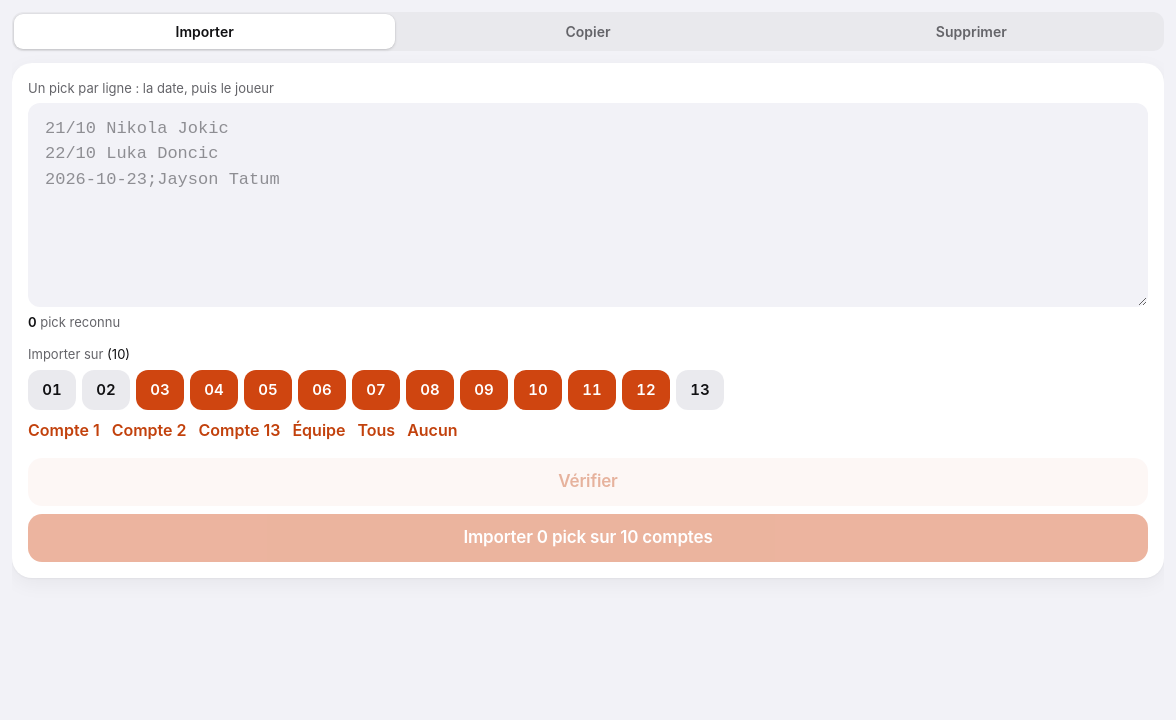
Test: Importer des picks › sans ligne valide ou sans compte, on ne peut pas vérifier
Expected: the button "Vérifier" is disabled, [28, 458, 1148, 506]
Click the text box named "Picks à importer" at point(588, 205), box [28, 102, 1148, 307]
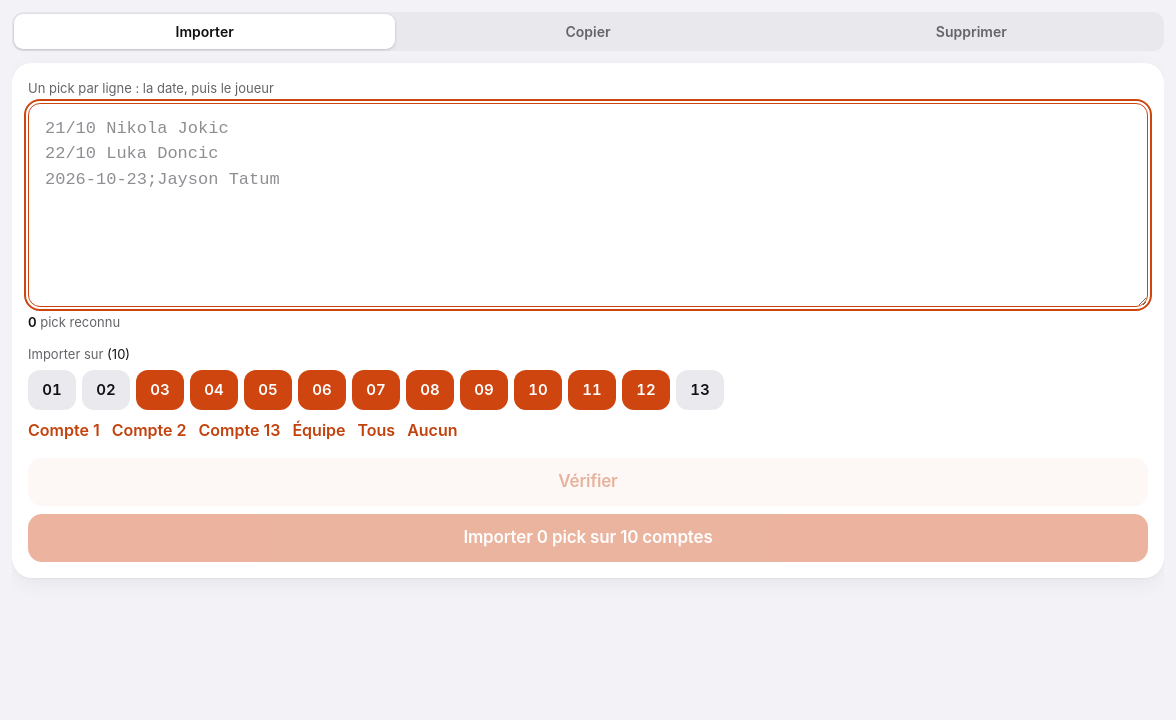
Type keys "21/10 Nikola Jokic"
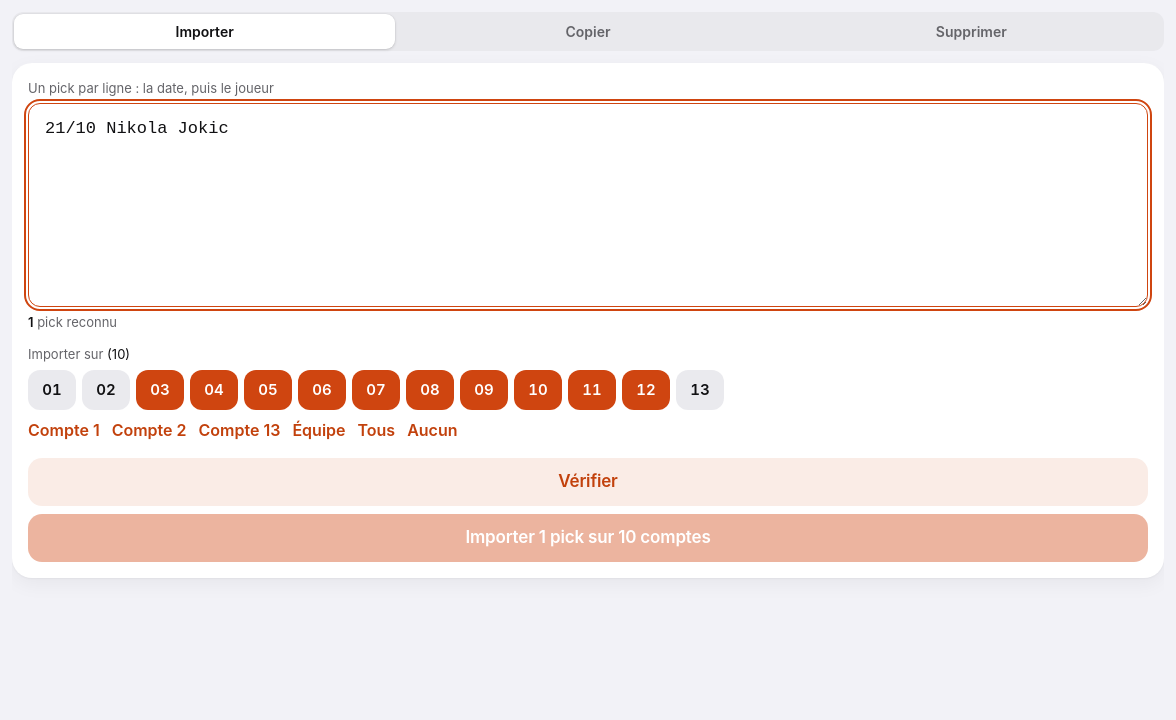
Now the button "Vérifier" is enabled, box [28, 458, 1148, 506]
Click the button "Aucun" at point(432, 430), box [407, 418, 458, 442]
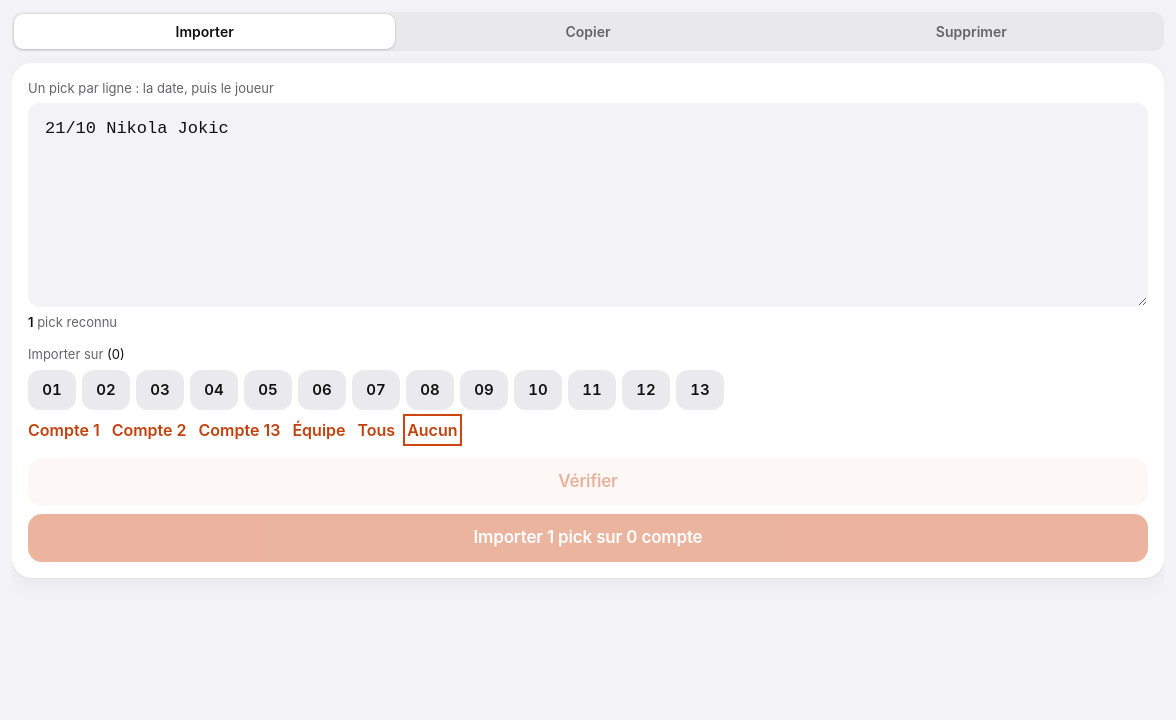
Now the button "Vérifier" is disabled, box [28, 458, 1148, 506]
